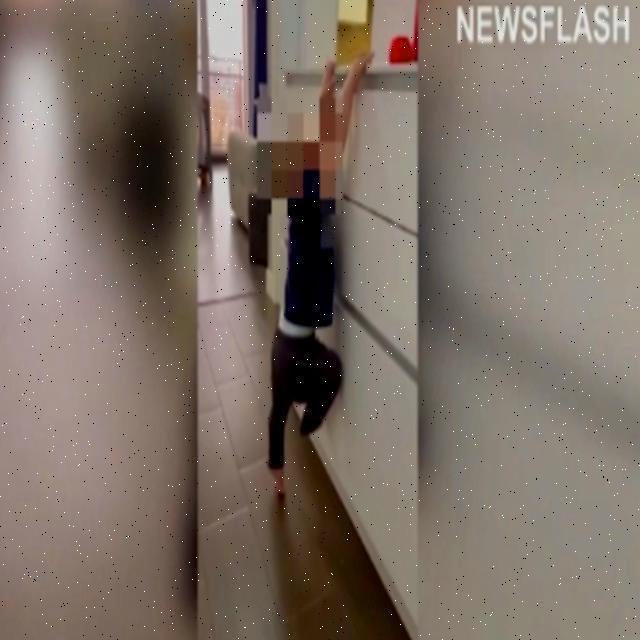child: (258, 56, 359, 501)
